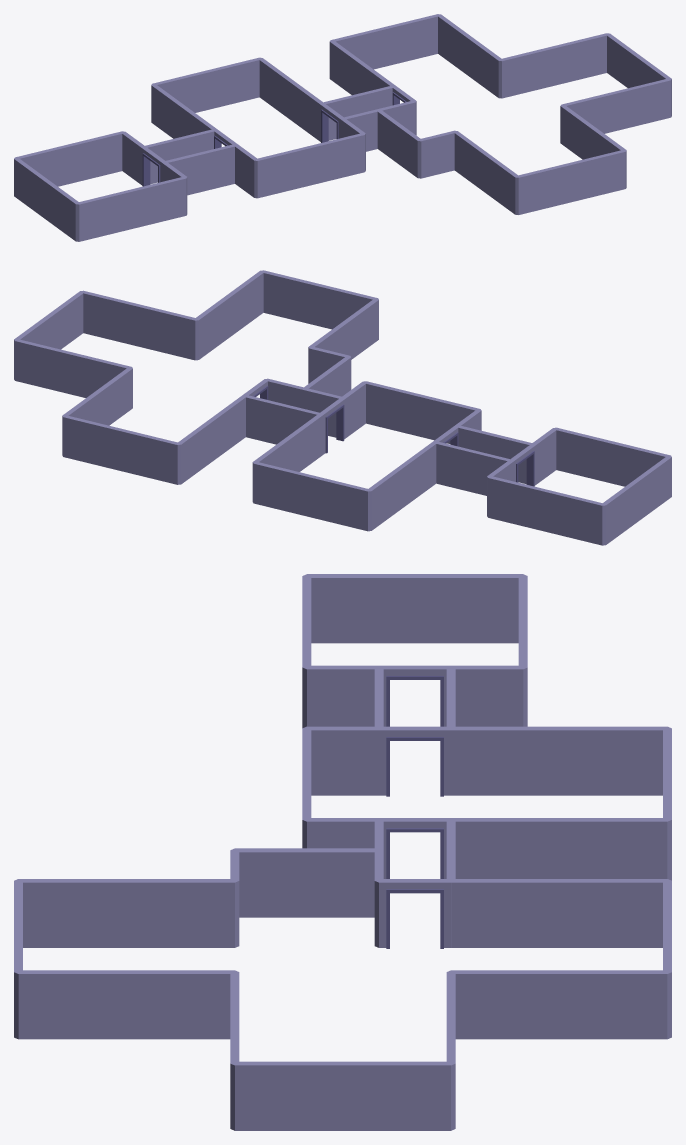
The model's file is Tutorial.fbx.
3 renders of one model, top to bottom at view 1: azimuth 30°, elevation 25°; view 2: azimuth 150°, elevation 25°; view 3: azimuth 270°, elevation 25°, orthographic. The views are drawn at different scales.
Visible parts, largest first — view 1: mergedBlocks; view 2: mergedBlocks; view 3: mergedBlocks.
Part boxes in pixels (x1=…): mergedBlocks: x1=14, y1=14, x2=671, y2=241; mergedBlocks: x1=14, y1=270, x2=671, y2=545; mergedBlocks: x1=14, y1=574, x2=671, y2=1130.
Size of the model in its own units: 161 by 10 by 91.26.
